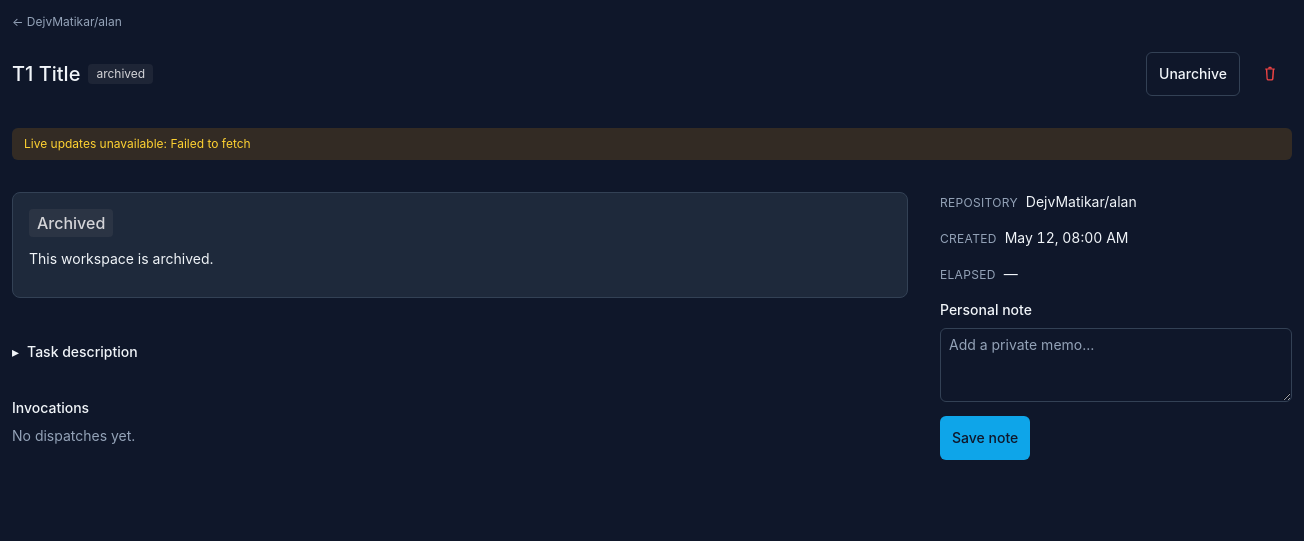
Workspace detail › surfaces an unarchive error and stays on the page
Click the button "Unarchive" at [1193, 74], box [1146,52,1240,96]
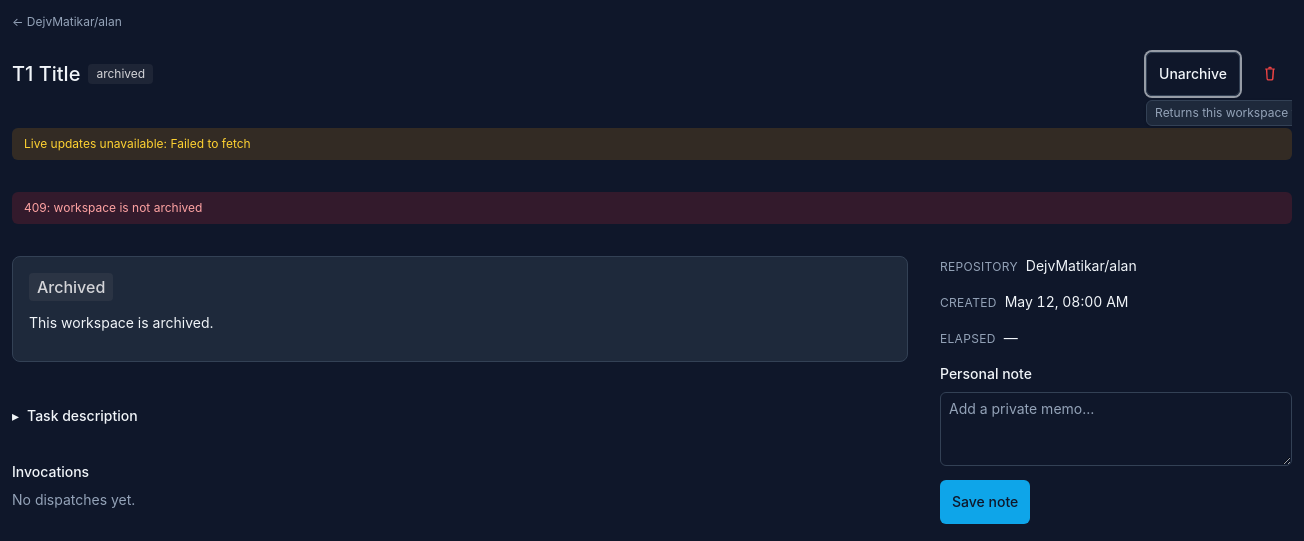
Check: the message with test id "archive-error" shows "409", box [24,200,202,215]
Check: the message with test id "archive-error" shows "workspace is not archived", box [24,200,202,215]
